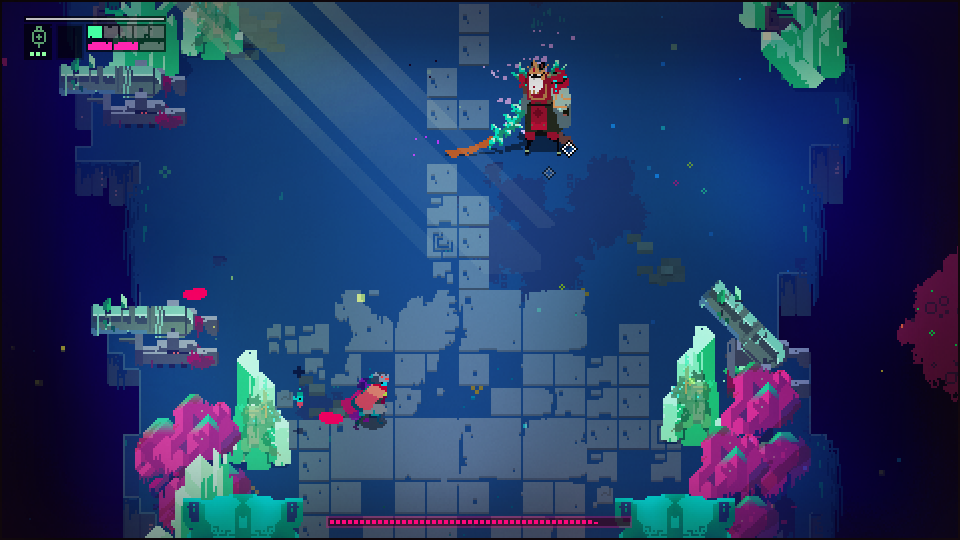hanged_man: (480, 52, 576, 159), (354, 368, 390, 425)
